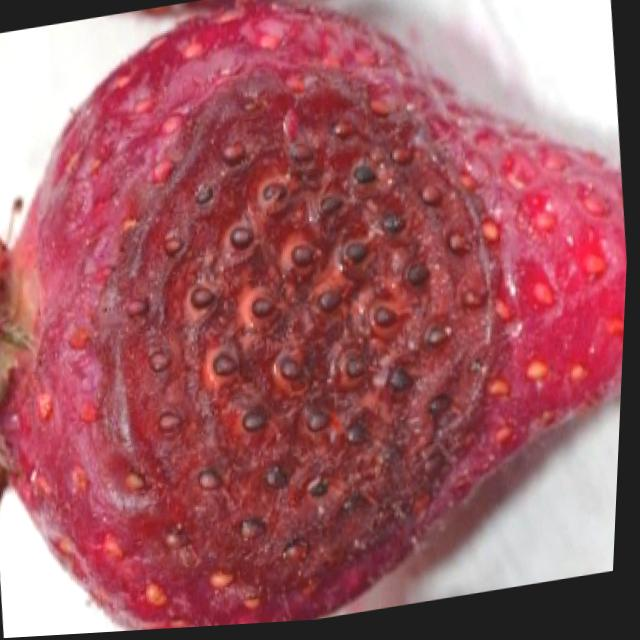Anthracnose Fruit Rot: (92, 60, 509, 614)
